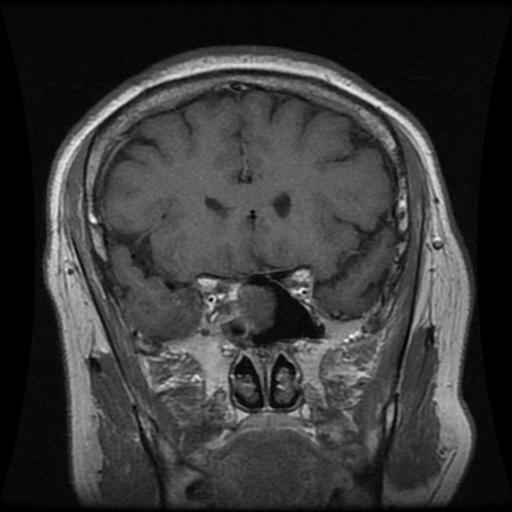Pituirity_tumour: (228, 284, 273, 330)
